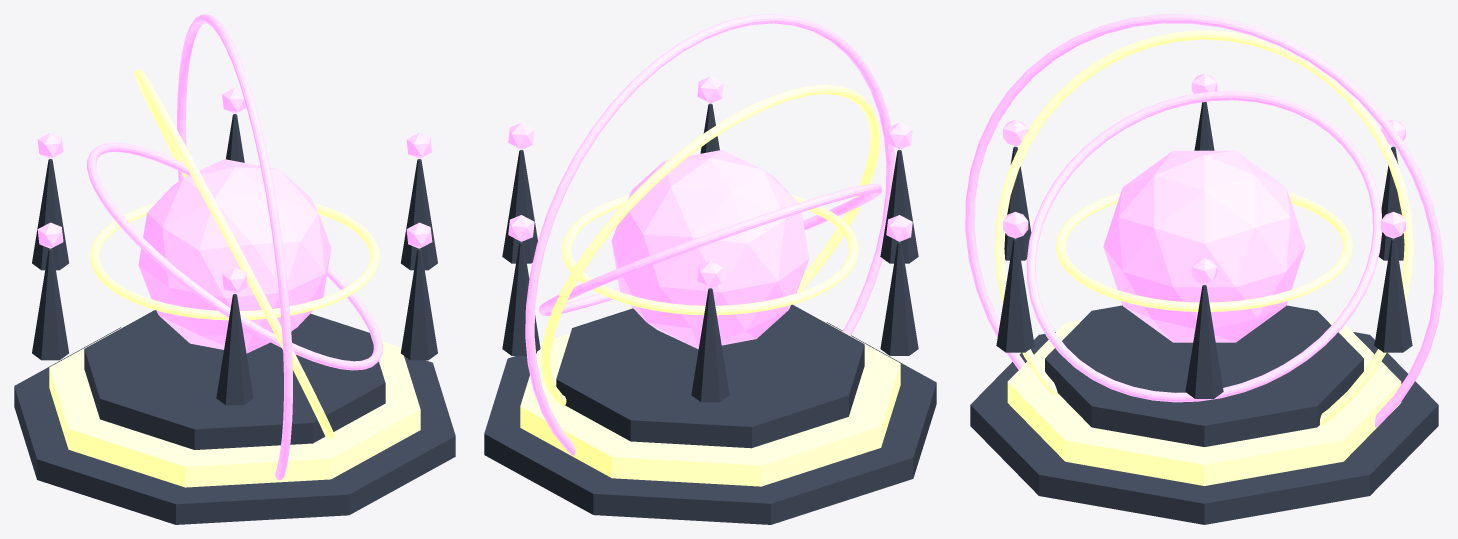
Rendered from gpu-blender-v39.glb.
3 renders of one model, left to right at view 1: azimuth 30°, elevation 25°; view 2: azimuth 150°, elevation 25°; view 3: azimuth 270°, elevation 25°, orthographic. The views are drawn at different scales.
Visible parts, largest first — view 1: Cylinder.002, Cylinder, SovereignCore_schema-illustrator-studio, Cylinder.001, Torus.003, Torus.001, Torus.002, Torus, Cone.004, Cone.003, Cone.005, Cone.002 (+7 smaller); view 2: Cylinder.002, SovereignCore_schema-illustrator-studio, Cylinder, Cylinder.001, Torus.003, Torus.002, Torus.001, Torus, Cone.002, Cone.003, Cone.001, Cone.004 (+7 smaller); view 3: SovereignCore_schema-illustrator-studio, Cylinder.002, Cylinder, Cylinder.001, Torus.003, Torus.001, Torus.002, Torus, Cone.001, Cone.005, Cone, Cone.004 (+3 smaller).
Part boxes in pixels (x1,y1,x2,y2): Cylinder.002: (84, 310, 385, 449); Cylinder: (14, 327, 455, 524); SovereignCore_schema-illustrator-studio: (138, 159, 331, 353); Cylinder.001: (49, 318, 420, 487); Torus.003: (177, 14, 292, 480); Torus.001: (87, 142, 382, 370); Torus.002: (134, 69, 334, 438); Torus: (90, 203, 379, 320); Cone.004: (216, 294, 253, 405); Cone.003: (32, 249, 68, 360); Cone.005: (401, 249, 437, 360); Cone.002: (32, 159, 68, 270); Cylinder.002: (556, 304, 864, 448); SovereignCore_schema-illustrator-studio: (611, 150, 809, 349); Cylinder: (484, 322, 936, 524); Cylinder.001: (520, 313, 900, 486); Torus.003: (525, 14, 895, 455); Torus.002: (541, 84, 879, 406); Torus.001: (539, 183, 881, 315); Torus: (562, 195, 858, 315); Cone.002: (691, 288, 729, 402); Cone.003: (880, 242, 918, 355); Cone.001: (502, 242, 540, 355); Cone.004: (880, 150, 918, 263); SovereignCore_schema-illustrator-studio: (1103, 150, 1305, 342); Cylinder.002: (1045, 305, 1363, 446); Cylinder: (970, 332, 1438, 524); Cylinder.001: (1007, 320, 1401, 485); Torus.003: (965, 14, 1443, 427); Torus.001: (1026, 91, 1382, 402); Torus.002: (995, 30, 1413, 426); Torus: (1056, 192, 1352, 311); Cone.001: (1374, 239, 1412, 352); Cone.005: (996, 239, 1034, 352); Cone: (1185, 285, 1223, 398); Cone.004: (1004, 146, 1031, 260).
Bounding box in the file's own units: 4.41 × 4.7 × 4.49.
